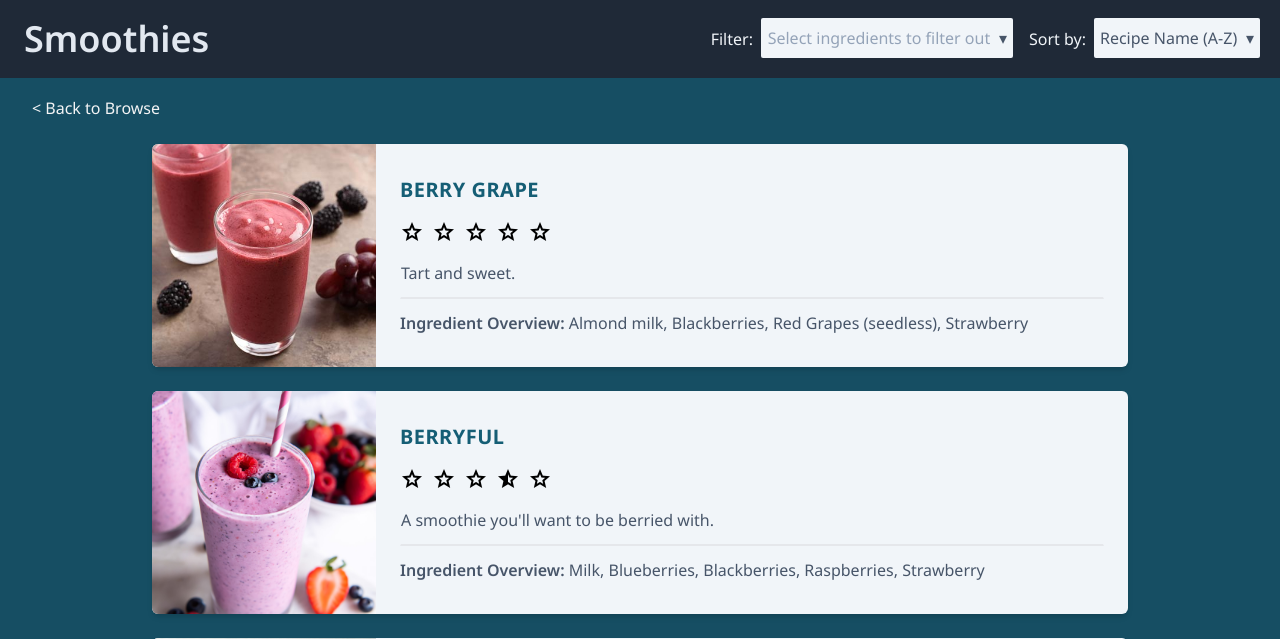
Test: filter options › check filter initial state
The image size is (1280, 639).
Expected: the label "Filter:" is shown, [711,27,753,51]
Expected: the text "Select ingredients to filter out" is shown, [767,26,991,50]
Click the button with id "filter_button" at x=887, y=38, box [761,18,1013,58]
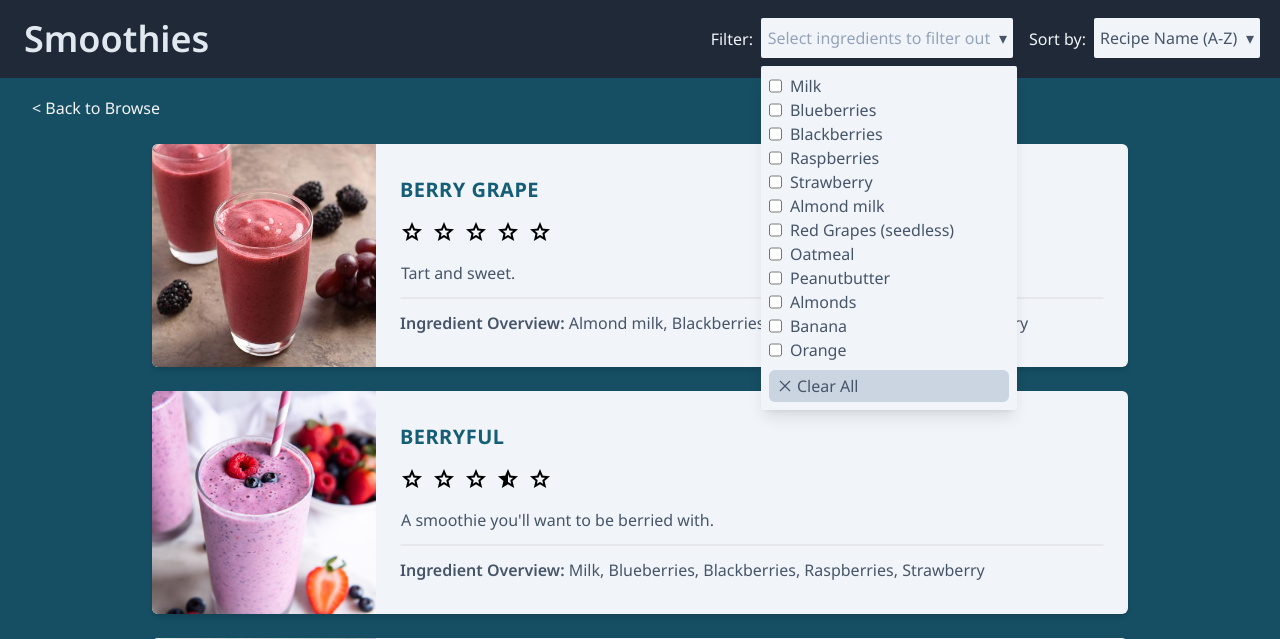
Expected: the list with id "filter_options" is shown, [769,74,954,362]
